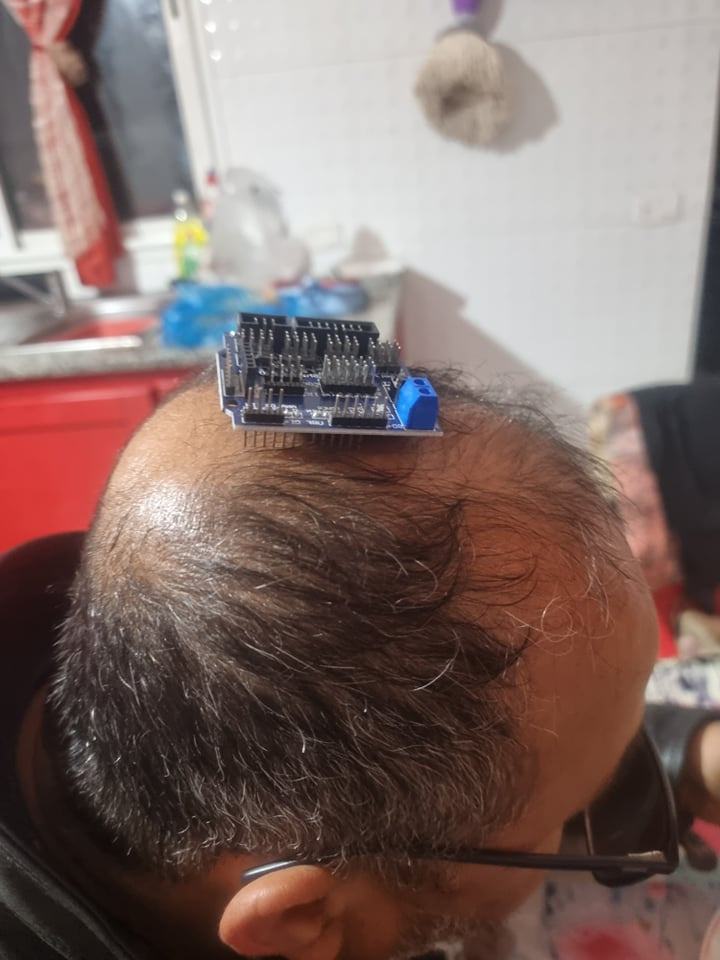5V EXPANSION: (217, 313, 446, 455)
